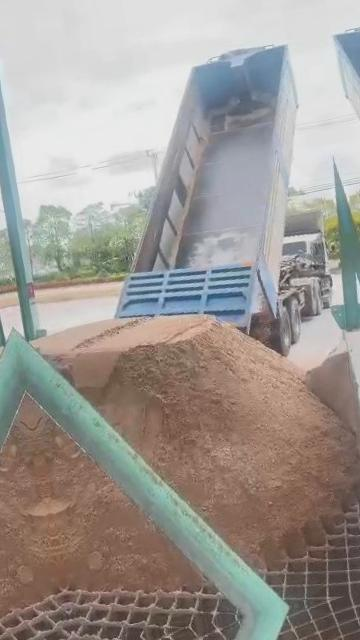sand: (38, 315, 359, 566), (28, 401, 199, 590), (306, 342, 360, 436)
